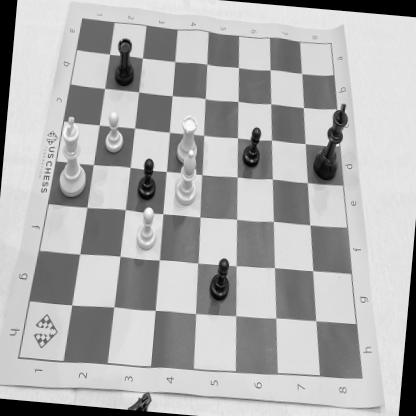bishop: (171, 146, 204, 209)
king: (52, 110, 96, 202), (308, 99, 352, 184)
pawn: (132, 202, 162, 255), (206, 252, 234, 304), (102, 107, 128, 156), (240, 121, 265, 171), (134, 154, 160, 202)
rook: (173, 110, 203, 168), (112, 33, 140, 91)
